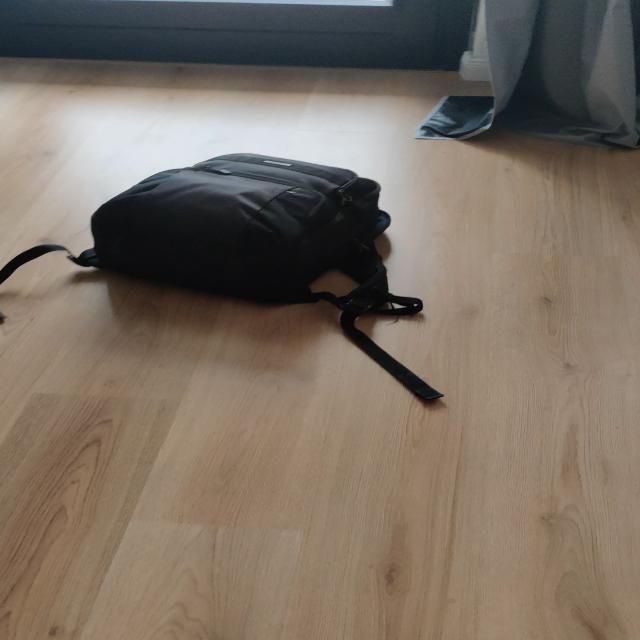backpack: (63, 148, 403, 308)
